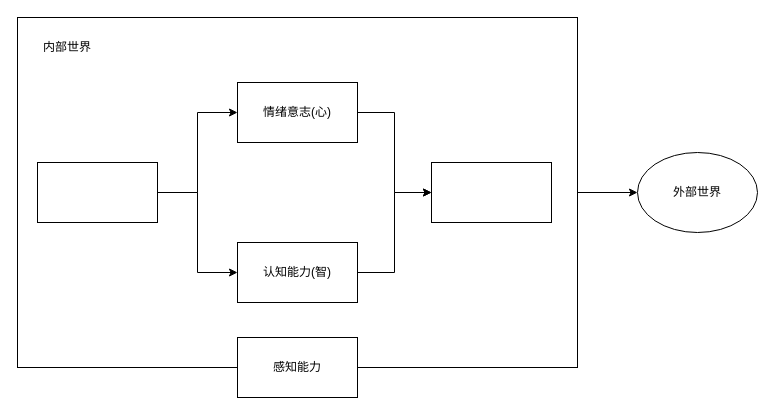
Image size: 775x415. Some labels were removed from this diagram. Each missing label, with the box of its shape:
欲望与动机: (36, 162, 158, 222)
行动能力: (430, 162, 552, 222)
